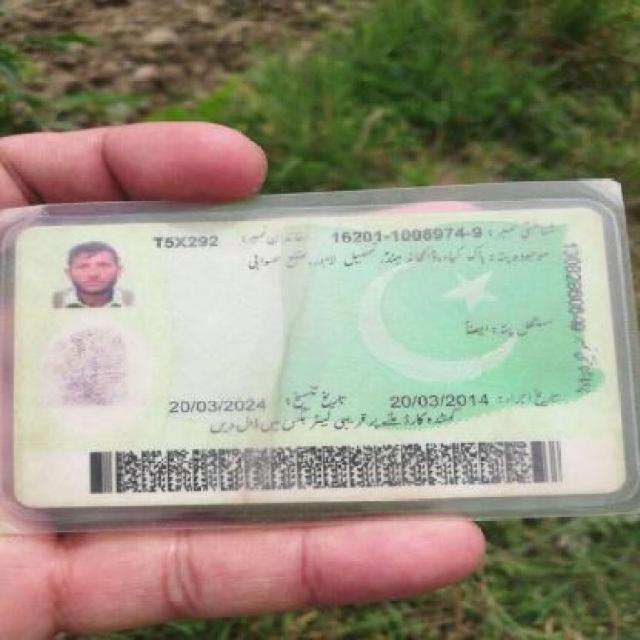Back: (9, 204, 628, 510)
